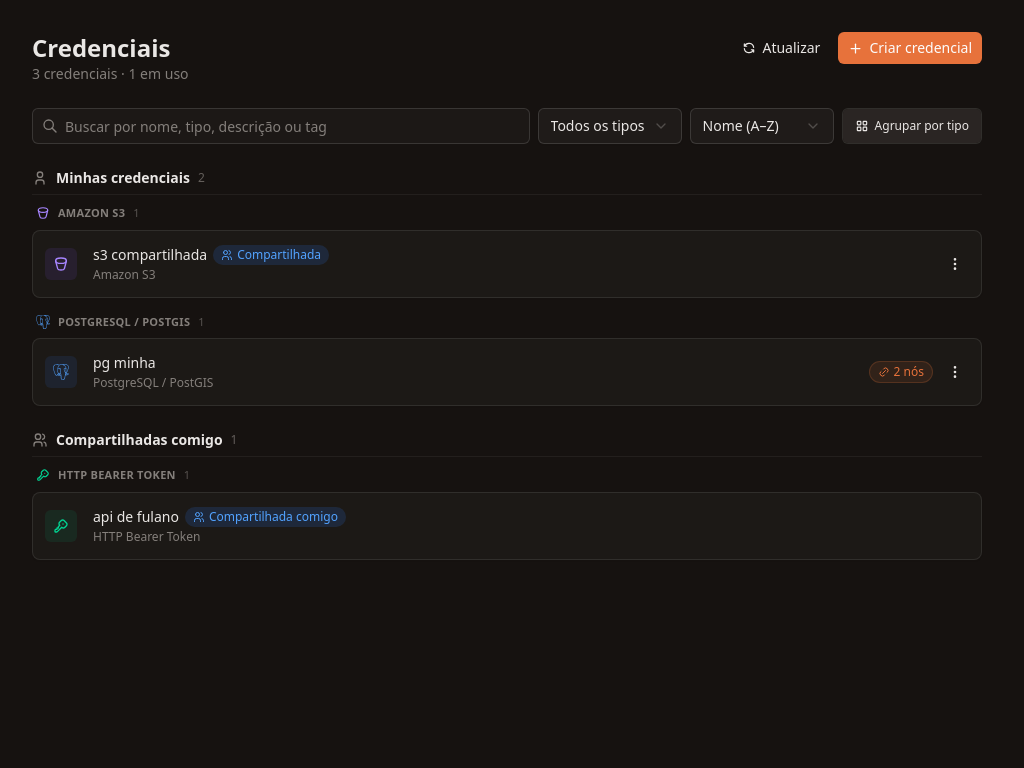
it: Lista de credenciais — busca › oferece limpar filtros quando nada corresponde
Check: the text "pg minha" is shown, box [93,353,156,373]
Type "zzz-nao-existe" into the field named "buscar credenciais" at (281, 126), box [32,108,530,144]
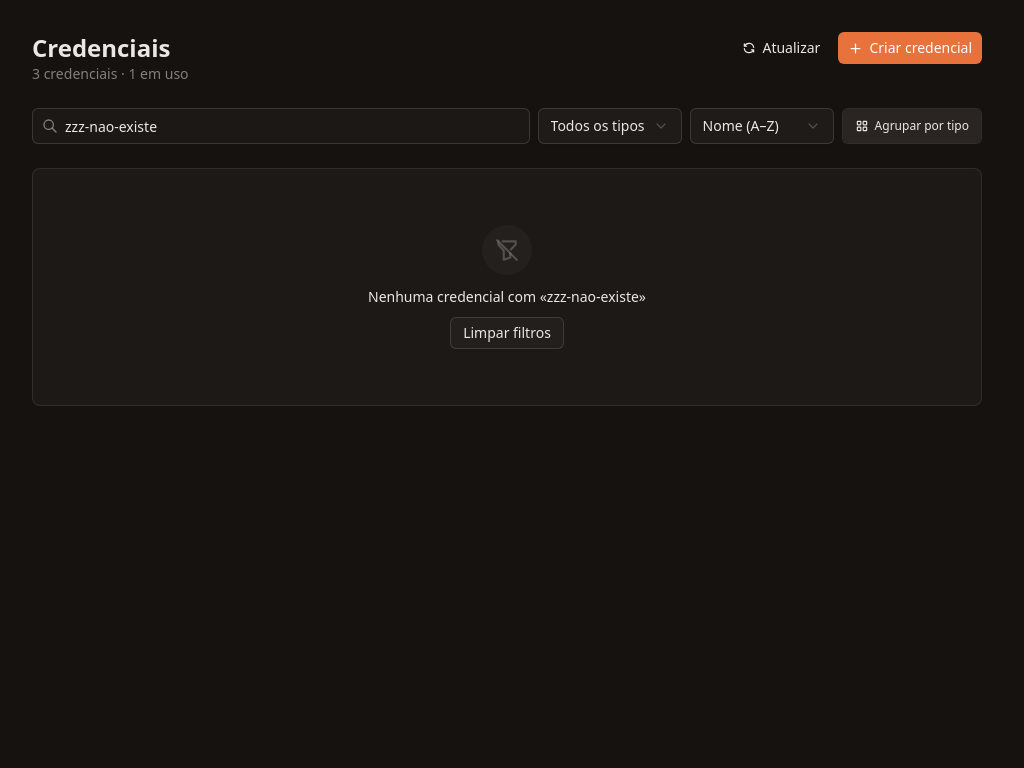
Click the button "Limpar filtros" at (507, 333), box [450,317,564,349]
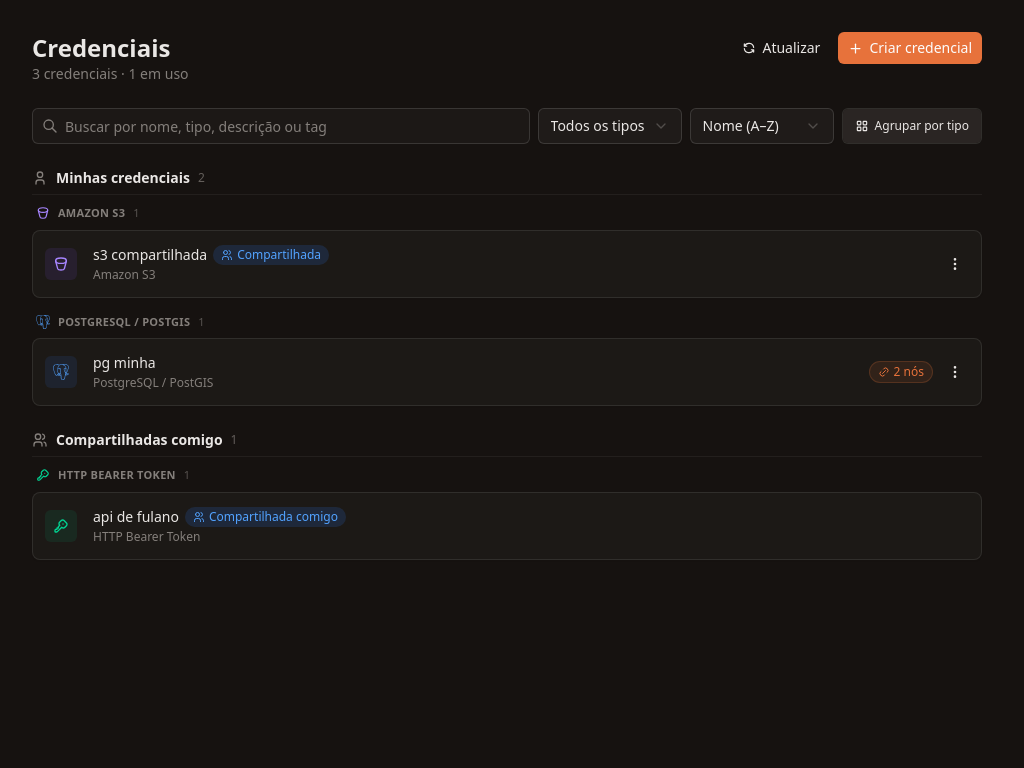
Check: the text "pg minha" is shown, box [93,353,156,373]
